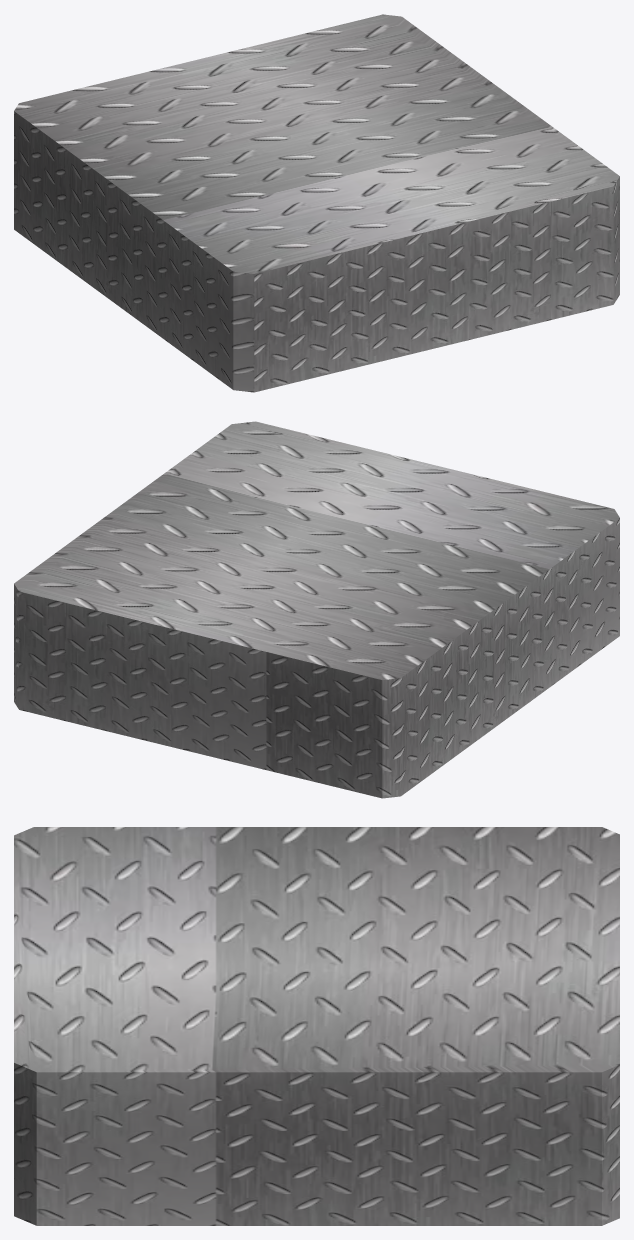
Rendered from metal.glb.
3 views of the same model, one above another, from view 1: azimuth 30°, elevation 25°; view 2: azimuth 150°, elevation 25°; view 3: azimuth 270°, elevation 25° (orthographic). The views are drawn at different scales.
Visible parts, largest first — view 1: Cube; view 2: Cube; view 3: Cube.
Part boxes in pixels (bbox=[...]): Cube: bbox=[14, 14, 619, 392]; Cube: bbox=[14, 421, 619, 798]; Cube: bbox=[14, 827, 619, 1225].
Size of the model in its own units: 2 by 0.5841 by 2.09.
Materials: 1 (1 with a texture image).
